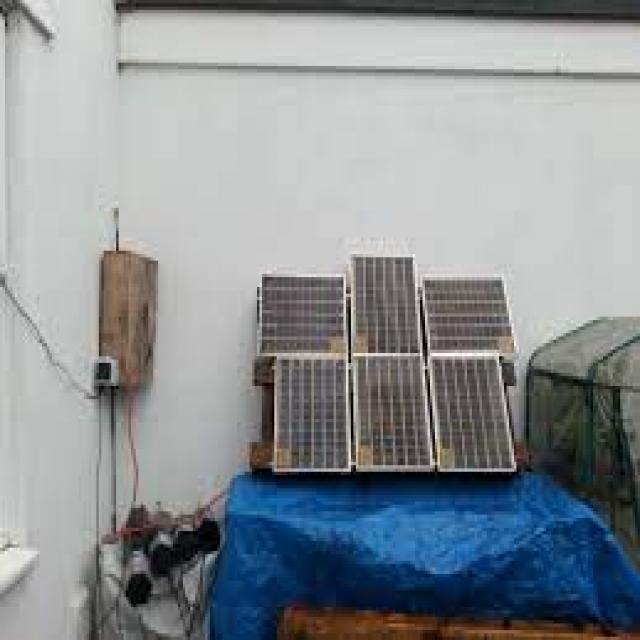faulty: (438, 356, 513, 473), (356, 353, 428, 473), (275, 357, 346, 471), (353, 252, 417, 354), (424, 280, 510, 355), (259, 276, 345, 346)
